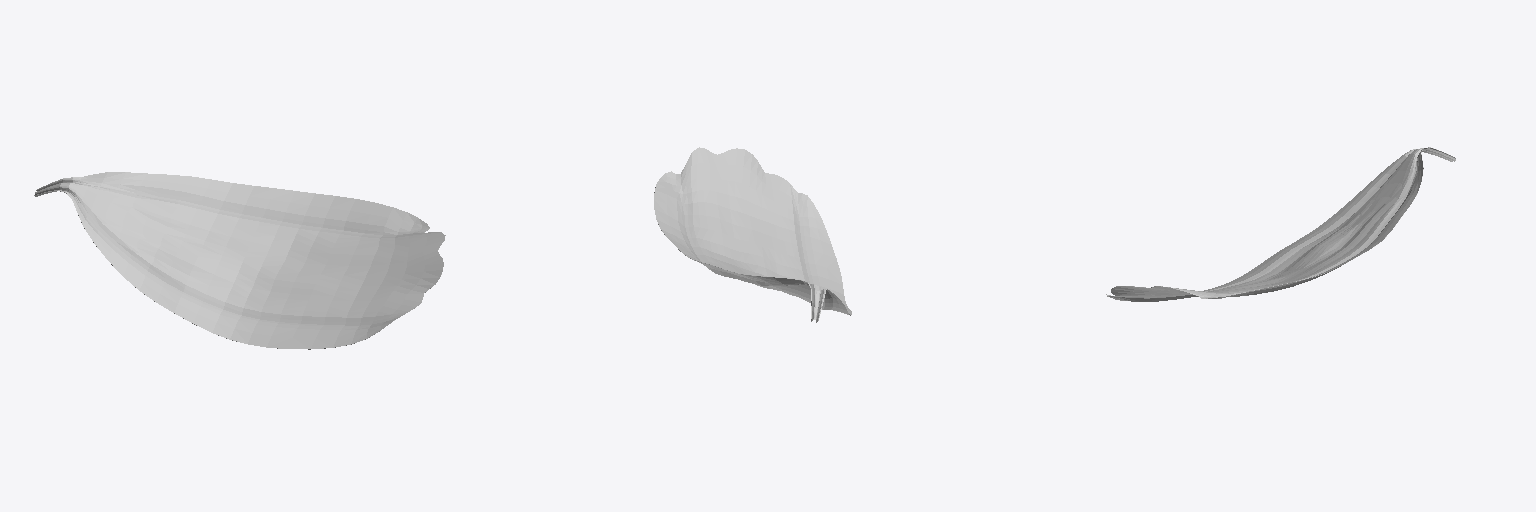
File: petal8.obj
The picture shows the model from 3 angles: view 1: azimuth 30°, elevation 25°; view 2: azimuth 150°, elevation 25°; view 3: azimuth 270°, elevation 25°; orthographic projection.
Parts seen in each view (by area): view 1: facb_petal_8; view 2: facb_petal_8; view 3: facb_petal_8.
Boxes of the visible parts, box(x1,y1,x2,y2) form: facb_petal_8: box(34, 172, 445, 349); facb_petal_8: box(654, 147, 851, 322); facb_petal_8: box(1106, 147, 1455, 301).
Bounding box in the file's own units: 1.62 × 0.6035 × 1.81.